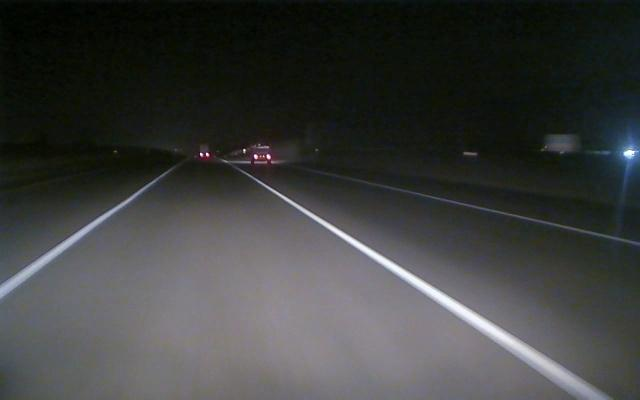lane: (256, 178, 609, 396), (3, 172, 167, 298), (357, 179, 640, 246)
